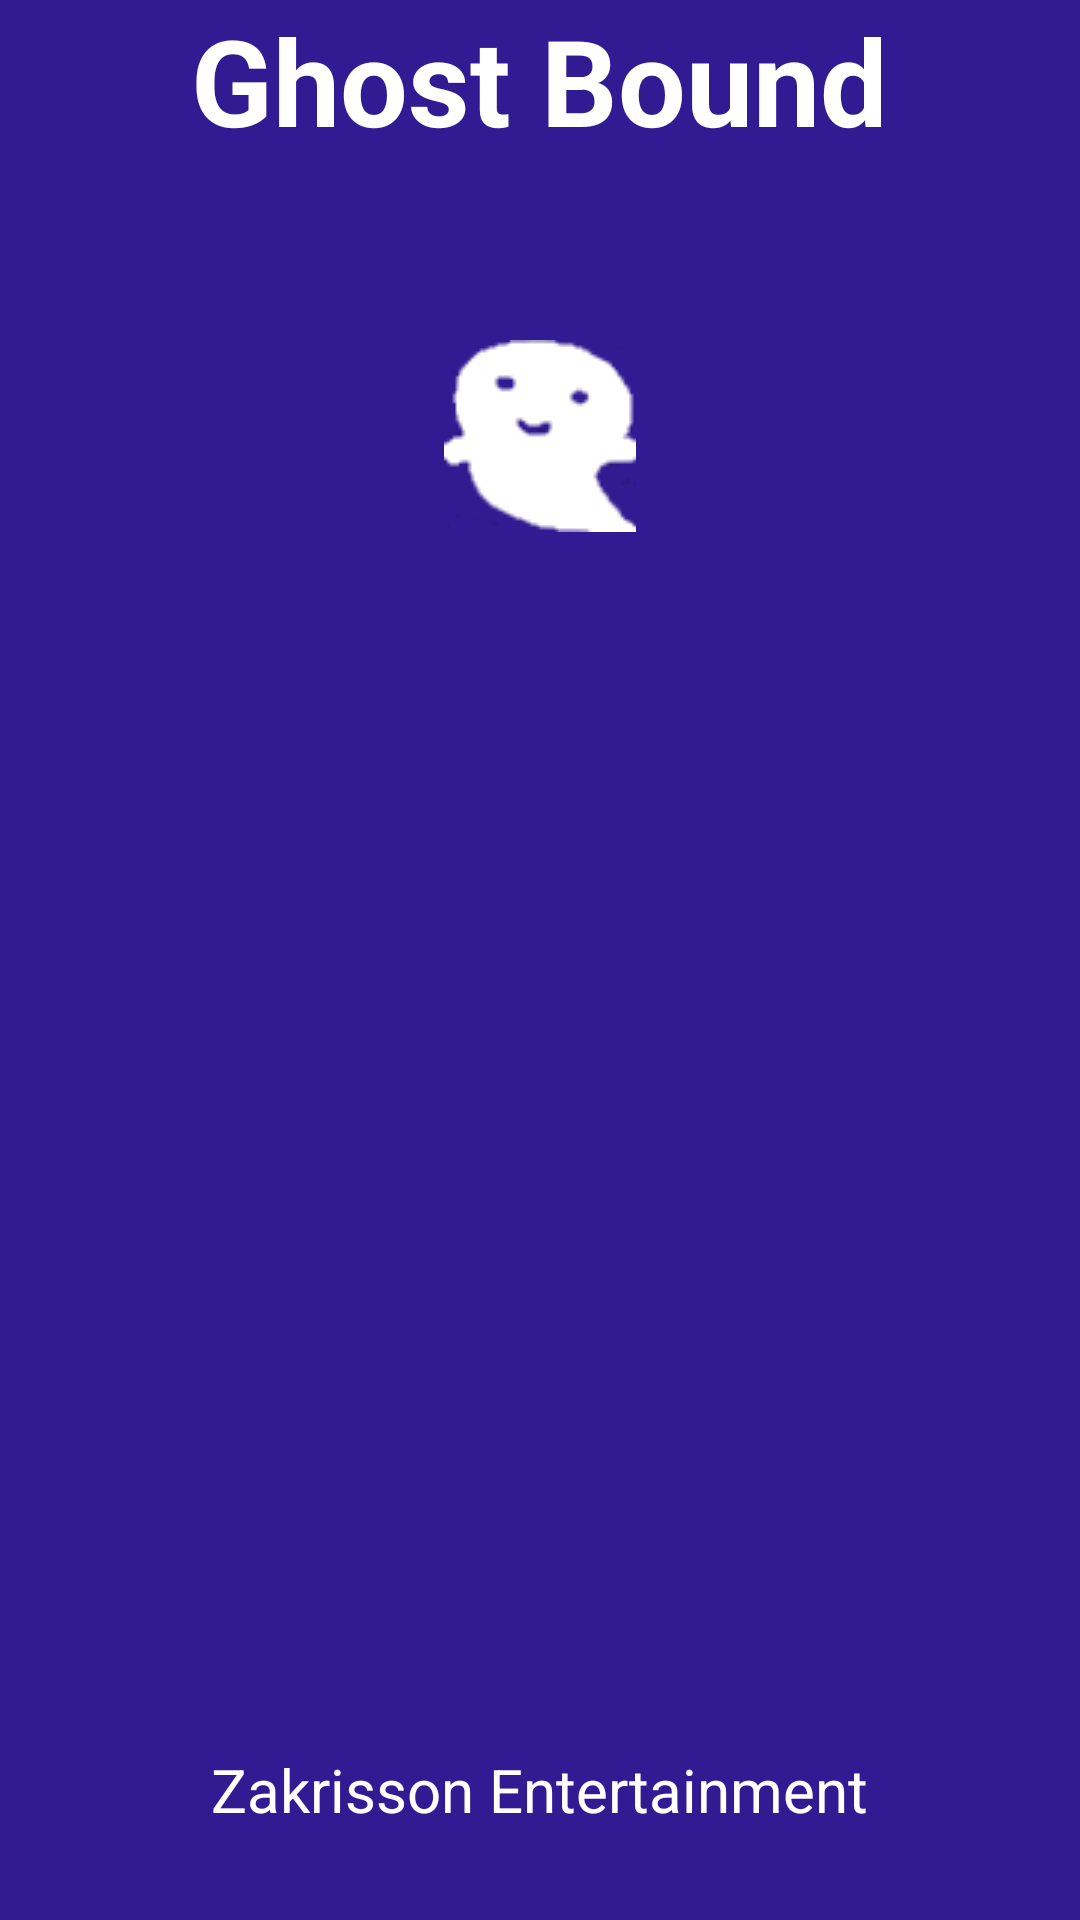

Named icons in this screenshot (1080w x 1920h) and their bounding boxes, (x1, y1, x2, y2):
ghost: (444, 340, 636, 532)
